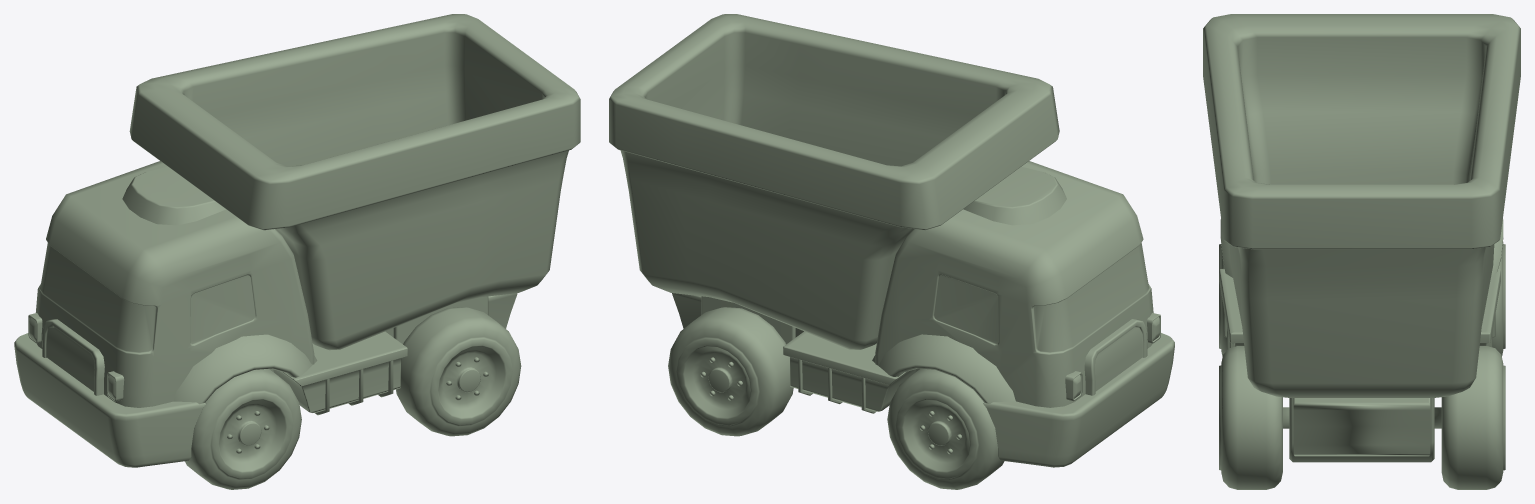
Rendered from toy_dump_truck.fbx.
3 renders of one model, left to right at view 1: azimuth 30°, elevation 25°; view 2: azimuth 150°, elevation 25°; view 3: azimuth 270°, elevation 25°, orthographic. The views are drawn at different scales.
Parts seen in each view (by area): view 1: polySurface92; view 2: polySurface92; view 3: polySurface92.
Part boxes in pixels (bbox=[...]): polySurface92: bbox=[14, 14, 580, 489]; polySurface92: bbox=[609, 14, 1174, 489]; polySurface92: bbox=[1203, 14, 1520, 489].
Size of the model in its own units: 0.5459 by 0.3506 by 0.2842.
